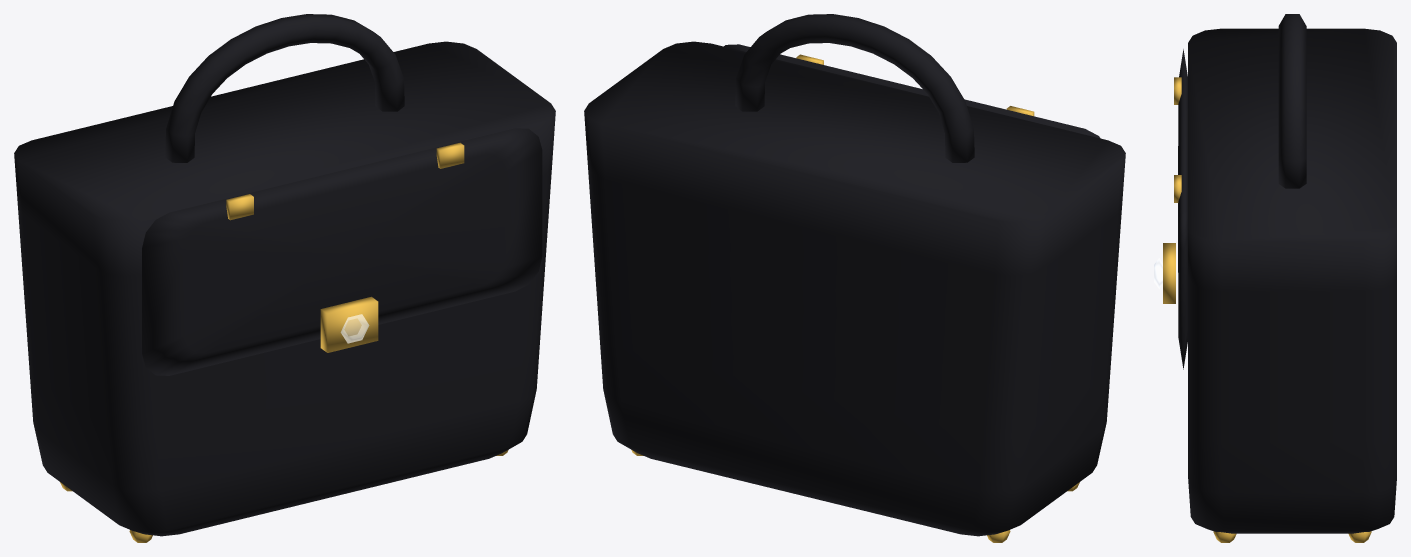
File: structured_handbag.glb
The picture shows the model from 3 angles, left to right: view 1: azimuth 30°, elevation 25°; view 2: azimuth 150°, elevation 25°; view 3: azimuth 270°, elevation 25°; orthographic projection. The views are drawn at different scales.
Visible parts, largest first — view 1: structured_handbag; view 2: structured_handbag; view 3: structured_handbag.
Part boxes in pixels (x1,y1,x2,y2): structured_handbag: [14, 14, 555, 542]; structured_handbag: [584, 14, 1125, 542]; structured_handbag: [1154, 14, 1396, 542].
Size of the model in its own units: 0.27 by 0.2552 by 0.1303.
